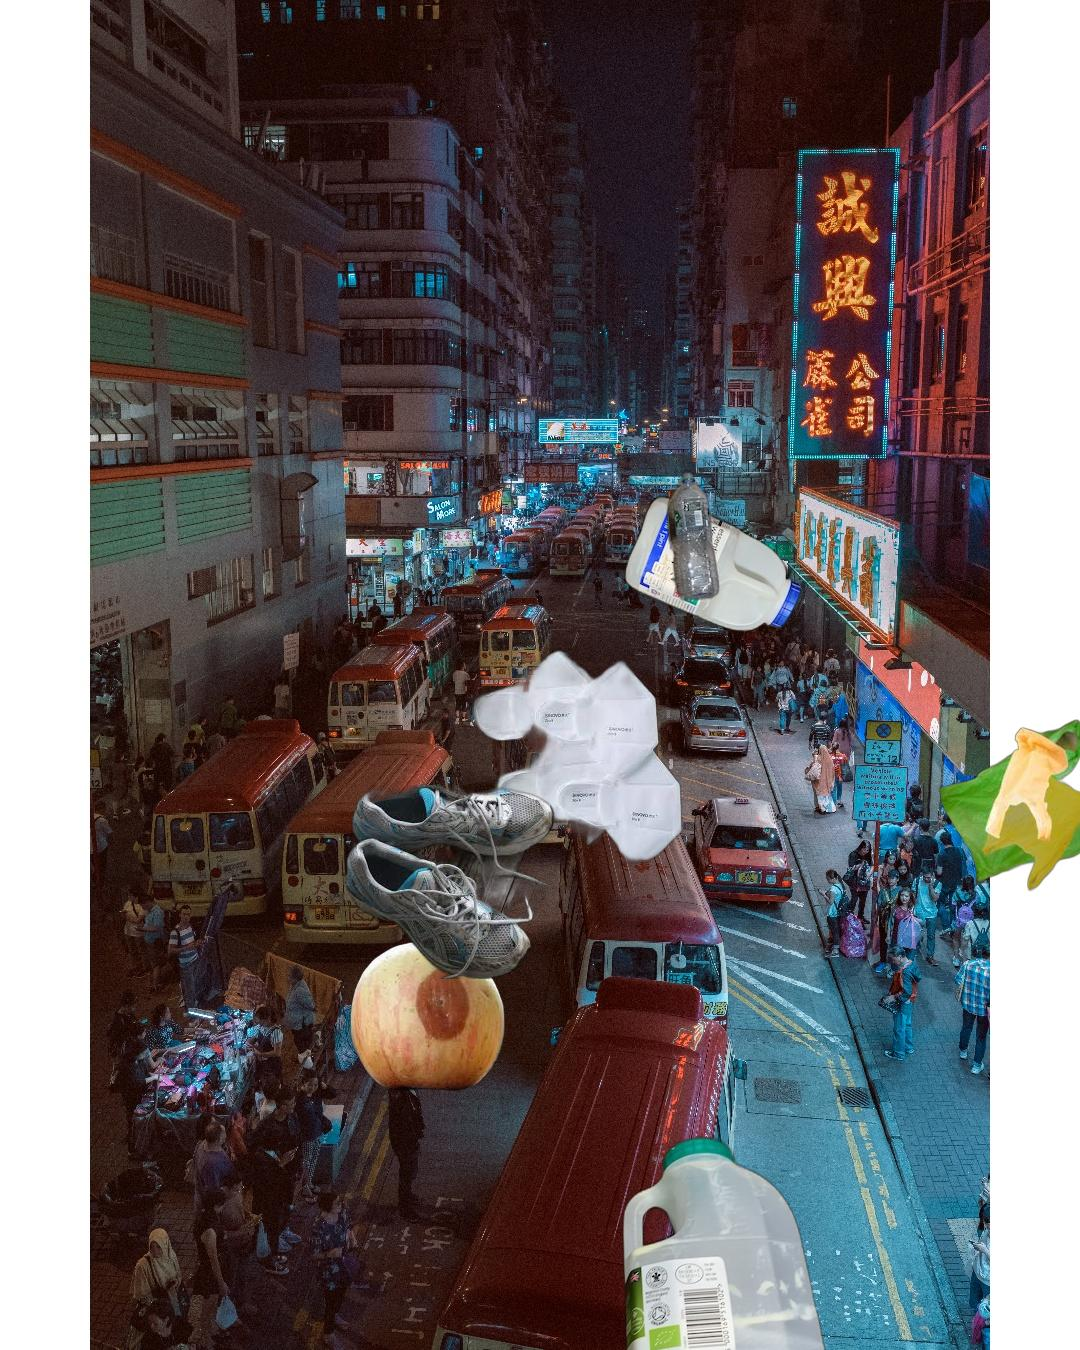biological: (347, 939, 549, 1123)
plastic-bag: (936, 717, 1080, 893)
plastic-bottles: (619, 1130, 834, 1350), (622, 485, 804, 637), (663, 467, 723, 605)
shoes: (309, 785, 568, 979)
trash: (467, 644, 691, 870)
